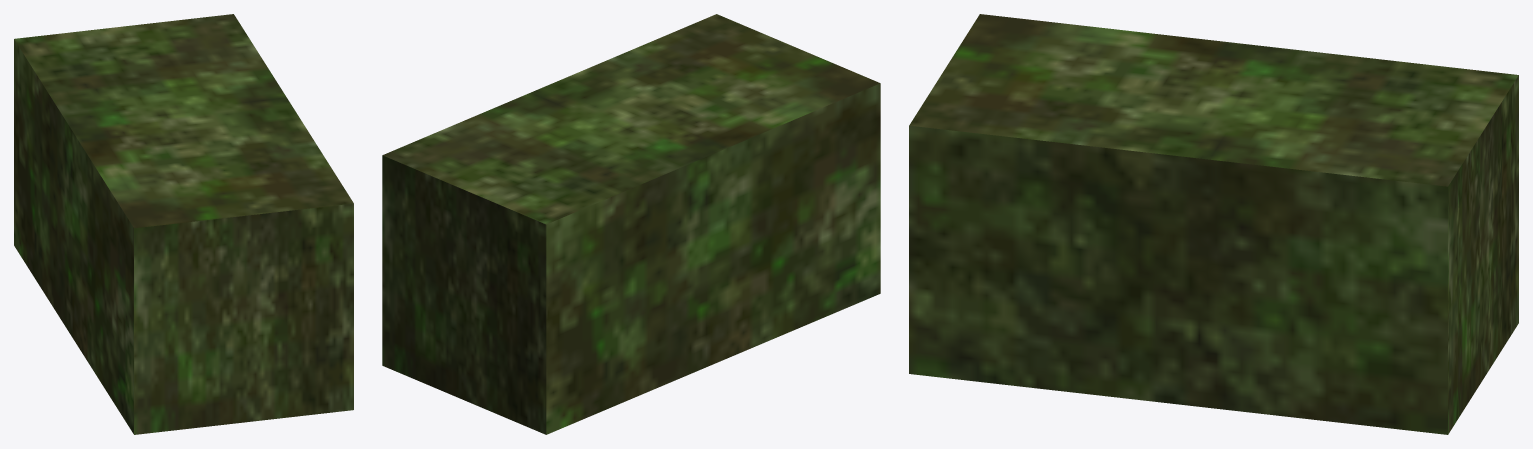
File: OVERHILL_A_01_SMALL_BLOCK_07.obj
3 views of the same model, side by side, from view 1: azimuth 30°, elevation 25°; view 2: azimuth 150°, elevation 25°; view 3: azimuth 270°, elevation 25° (orthographic). The views are drawn at different scales.
Visible parts, largest first — view 1: Small_Block_07; view 2: Small_Block_07; view 3: Small_Block_07.
Part boxes in pixels (left/top/right/bottom): Small_Block_07: left=14, top=14, right=353, bottom=434; Small_Block_07: left=382, top=14, right=880, bottom=434; Small_Block_07: left=909, top=14, right=1518, bottom=434.
Size of the model in its own units: 118 by 79.25 by 176.
